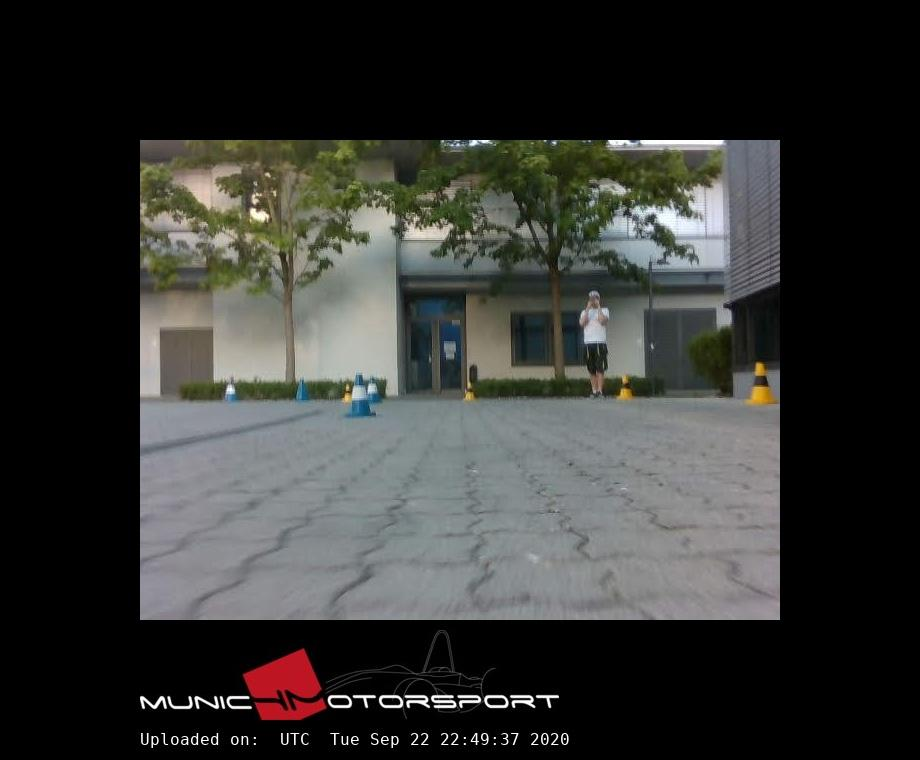blue_cone: (344, 373, 376, 417), (366, 375, 381, 402), (294, 378, 309, 401), (224, 377, 237, 401)
yellow_cone: (746, 362, 777, 404), (615, 374, 635, 401), (463, 382, 477, 401), (343, 385, 352, 403)
